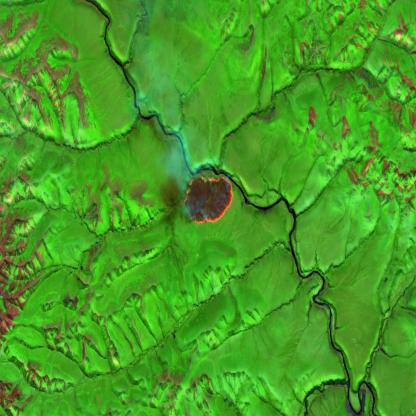fire: (184, 167, 236, 231)
